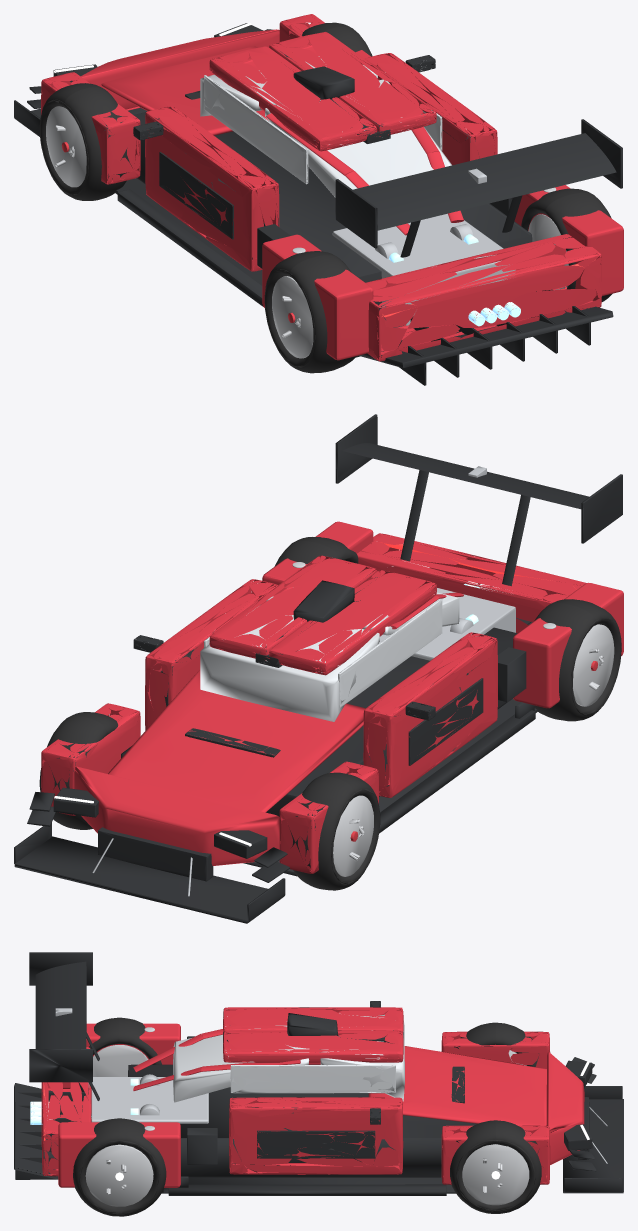
File: complete-gt3_supercar.glb
The picture shows the model from 3 angles, top to bottom: view 1: azimuth 30°, elevation 25°; view 2: azimuth 150°, elevation 25°; view 3: azimuth 270°, elevation 25°; orthographic projection. The views are drawn at different scales.
Parts seen in each view (by area): view 1: Hypercar_Roof_Canopy, Hypercar_Rear_Bumper, Hypercar_Chassis_Monocoque, Hypercar_Active_Rear_Wing, Hypercar_Door_Butterfly_Left, Hypercar_Wheel_RL, Hypercar_Wheel_FL, Hypercar_Rear_Diffuser, Hypercar_Rear_Haunch_Left, Hypercar_Door_Butterfly_Right, Hypercar_Front_Bumper_Fascia, Hypercar_Hood_Vented (+7 smaller); view 2: Hypercar_Roof_Canopy, Hypercar_Hood_Vented, Hypercar_Front_Bumper_Fascia, Hypercar_Door_Butterfly_Left, Hypercar_Front_Splitter, Hypercar_Active_Rear_Wing, Hypercar_Rear_Bumper, Hypercar_Chassis_Monocoque, Hypercar_Wheel_FL, Hypercar_Wheel_RL, Hypercar_Rear_Haunch_Left, Hypercar_Door_Butterfly_Right (+6 smaller); view 3: Hypercar_Roof_Canopy, Hypercar_Door_Butterfly_Right, Hypercar_Chassis_Monocoque, Hypercar_Hood_Vented, Hypercar_Active_Rear_Wing, Hypercar_Wheel_RR, Hypercar_Wheel_FR, Hypercar_Front_Splitter, Hypercar_Rear_Haunch_Right, Hypercar_Front_Bumper_Fascia, Hypercar_Rocker_Skirt_Right, Hypercar_Rear_Bumper (+6 smaller).
Part boxes in pixels (<box>): Hypercar_Roof_Canopy: <box>200,32,463,235</box>; Hypercar_Rear_Bumper: <box>365,234,601,361</box>; Hypercar_Chassis_Monocoque: <box>115,111,532,357</box>; Hypercar_Active_Rear_Wing: <box>335,119,622,257</box>; Hypercar_Door_Butterfly_Left: <box>133,106,279,271</box>; Hypercar_Wheel_RL: <box>264,251,356,373</box>; Hypercar_Wheel_FL: <box>39,83,131,200</box>; Hypercar_Rear_Diffuser: <box>359,289,613,385</box>; Hypercar_Rear_Haunch_Left: <box>257,224,373,360</box>; Hypercar_Door_Butterfly_Right: <box>365,53,497,165</box>; Hypercar_Front_Bumper_Fascia: <box>53,22,279,110</box>; Hypercar_Hood_Vented: <box>101,46,268,135</box>; Hypercar_Roof_Canopy: <box>200,555,463,721</box>; Hypercar_Hood_Vented: <box>108,670,365,812</box>; Hypercar_Front_Bumper_Fascia: <box>53,766,281,881</box>; Hypercar_Door_Butterfly_Left: <box>363,632,497,797</box>; Hypercar_Front_Splitter: <box>14,792,289,923</box>; Hypercar_Active_Rear_Wing: <box>335,414,622,586</box>; Hypercar_Rear_Bumper: <box>357,533,586,633</box>; Hypercar_Chassis_Monocoque: <box>87,586,538,876</box>; Hypercar_Wheel_FL: <box>290,772,380,890</box>; Hypercar_Wheel_RL: <box>534,599,621,721</box>; Hypercar_Rear_Haunch_Left: <box>498,582,623,708</box>; Hypercar_Door_Butterfly_Right: <box>133,579,277,730</box>; Hypercar_Roof_Canopy: <box>133,1007,404,1102</box>; Hypercar_Door_Butterfly_Right: <box>229,1097,403,1174</box>; Hypercar_Chassis_Monocoque: <box>91,1064,477,1193</box>; Hypercar_Hood_Vented: <box>368,1046,546,1125</box>; Hypercar_Active_Rear_Wing: <box>29,952,99,1100</box>; Hypercar_Wheel_RR: <box>73,1118,166,1216</box>; Hypercar_Wheel_FR: <box>450,1120,541,1213</box>; Hypercar_Front_Splitter: <box>563,1057,623,1193</box>; Hypercar_Rear_Haunch_Right: <box>58,1122,217,1187</box>; Hypercar_Front_Bumper_Fascia: <box>546,1051,592,1164</box>; Hypercar_Rocker_Skirt_Right: <box>163,1176,446,1195</box>; Hypercar_Rear_Bumper: <box>30,1047,91,1176</box>.
Bounding box in the file's own units: 2.11 × 1.27 × 4.38.
